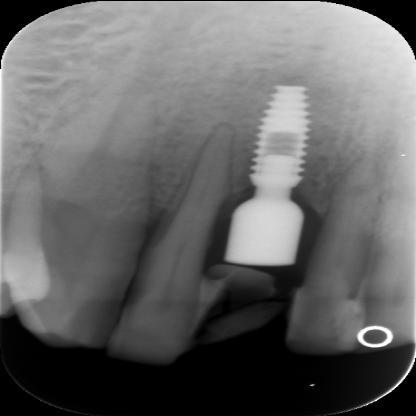Bicon: (240, 81, 336, 198)
